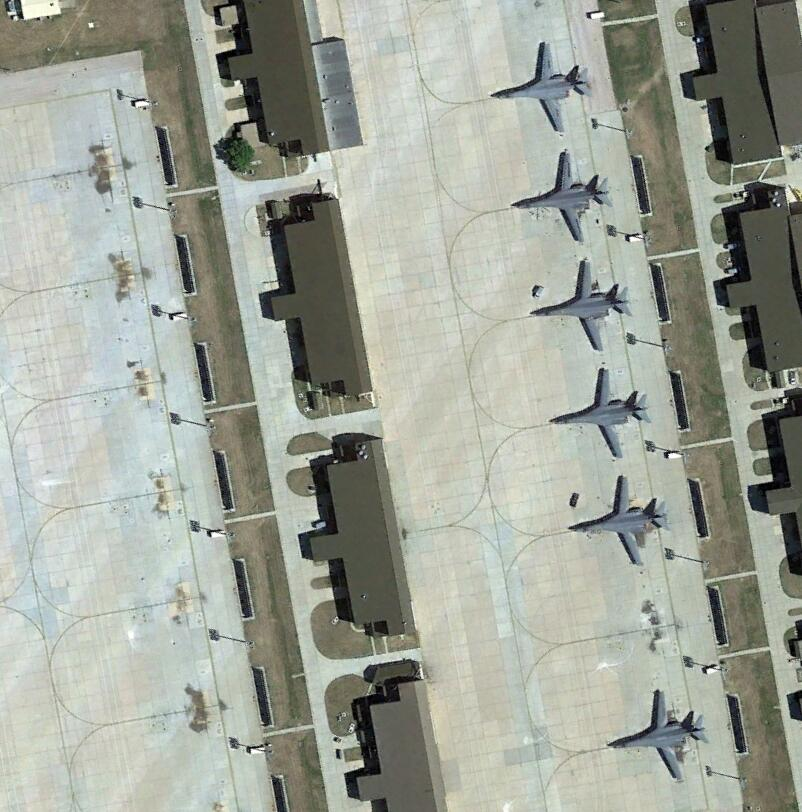A10: (545, 366, 655, 461), (567, 473, 674, 570), (602, 685, 709, 782), (490, 37, 594, 136), (511, 147, 615, 246), (529, 256, 633, 352)
